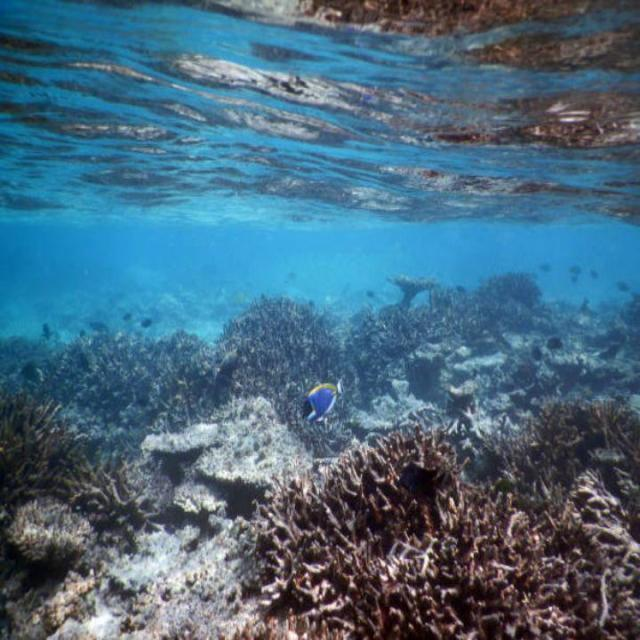Dead Coral: (269, 398, 640, 640), (78, 515, 273, 640), (154, 406, 303, 498)
